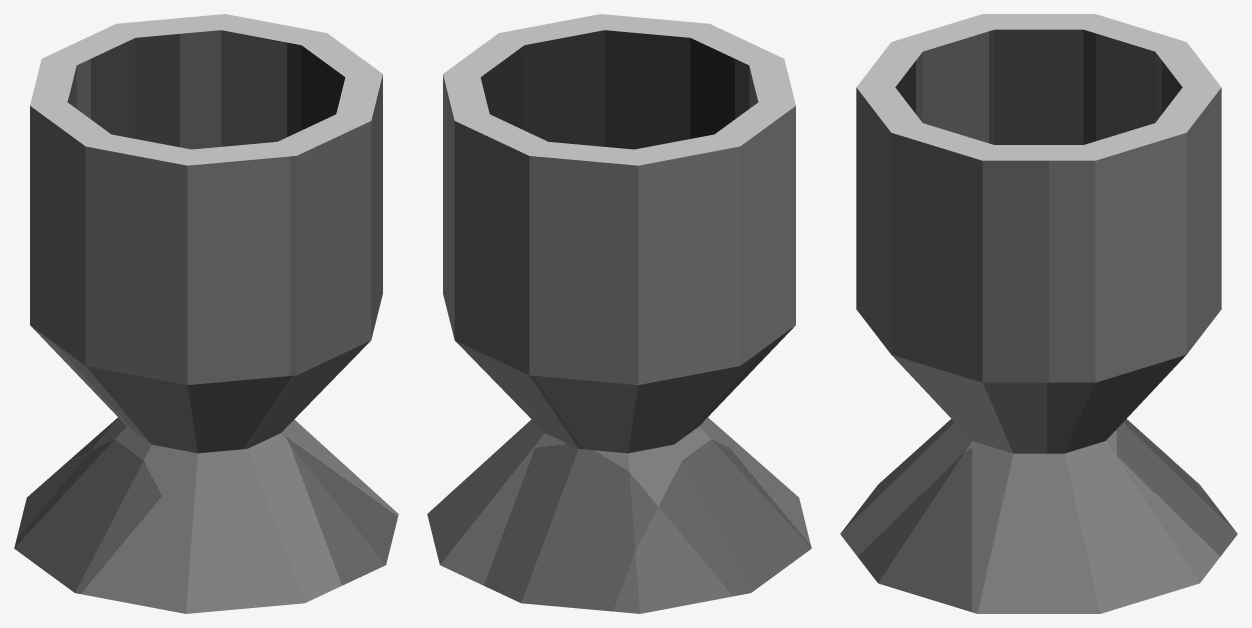
File: cup_628x06.gltf
3 views of the same model, side by side, from view 1: azimuth 30°, elevation 25°; view 2: azimuth 150°, elevation 25°; view 3: azimuth 270°, elevation 25° (orthographic).
Visible parts, largest first — view 1: cup_628x06; view 2: cup_628x06; view 3: cup_628x06.
Boxes of the visible parts, x1,y1,x2,y2 form: cup_628x06: (14, 14, 398, 613); cup_628x06: (427, 14, 811, 613); cup_628x06: (840, 14, 1237, 613).
Bounding box in the file's own units: 0.4211 × 0.5485 × 0.4428.
Materials: 1 (1 with a texture image).
